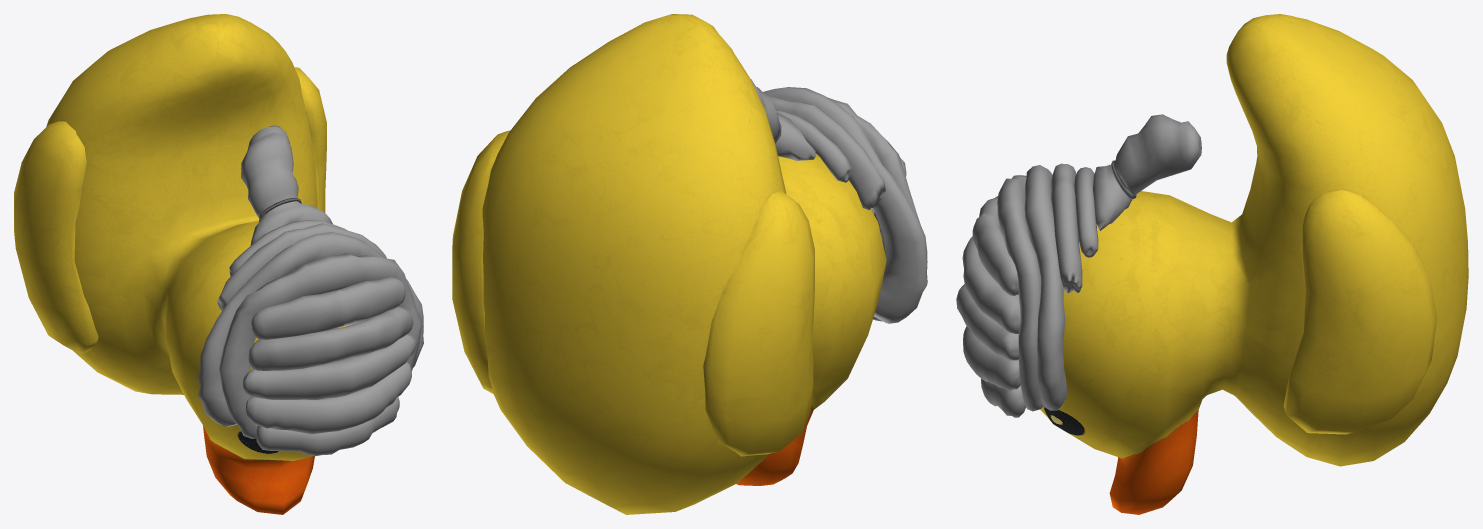
The model's file is mdl_wollo_ducky.gltf.
3 renders of one model, left to right at view 1: azimuth 30°, elevation 25°; view 2: azimuth 150°, elevation 25°; view 3: azimuth 270°, elevation 25°, orthographic. The views are drawn at different scales.
Visible parts, largest first — view 1: Cube.173, SM_Wig_01a; view 2: Cube.173, SM_Wig_01a; view 3: Cube.173, SM_Wig_01a.
Boxes of the visible parts, x1,y1,x2,y2 form: Cube.173: [14, 14, 355, 514]; SM_Wig_01a: [197, 125, 423, 456]; Cube.173: [452, 14, 886, 514]; SM_Wig_01a: [751, 79, 927, 323]; Cube.173: [1018, 14, 1468, 514]; SM_Wig_01a: [956, 114, 1201, 417].
Size of the model in its own units: 0.151 by 0.2175 by 0.2063.
Materials: 3 (1 with a texture image).
